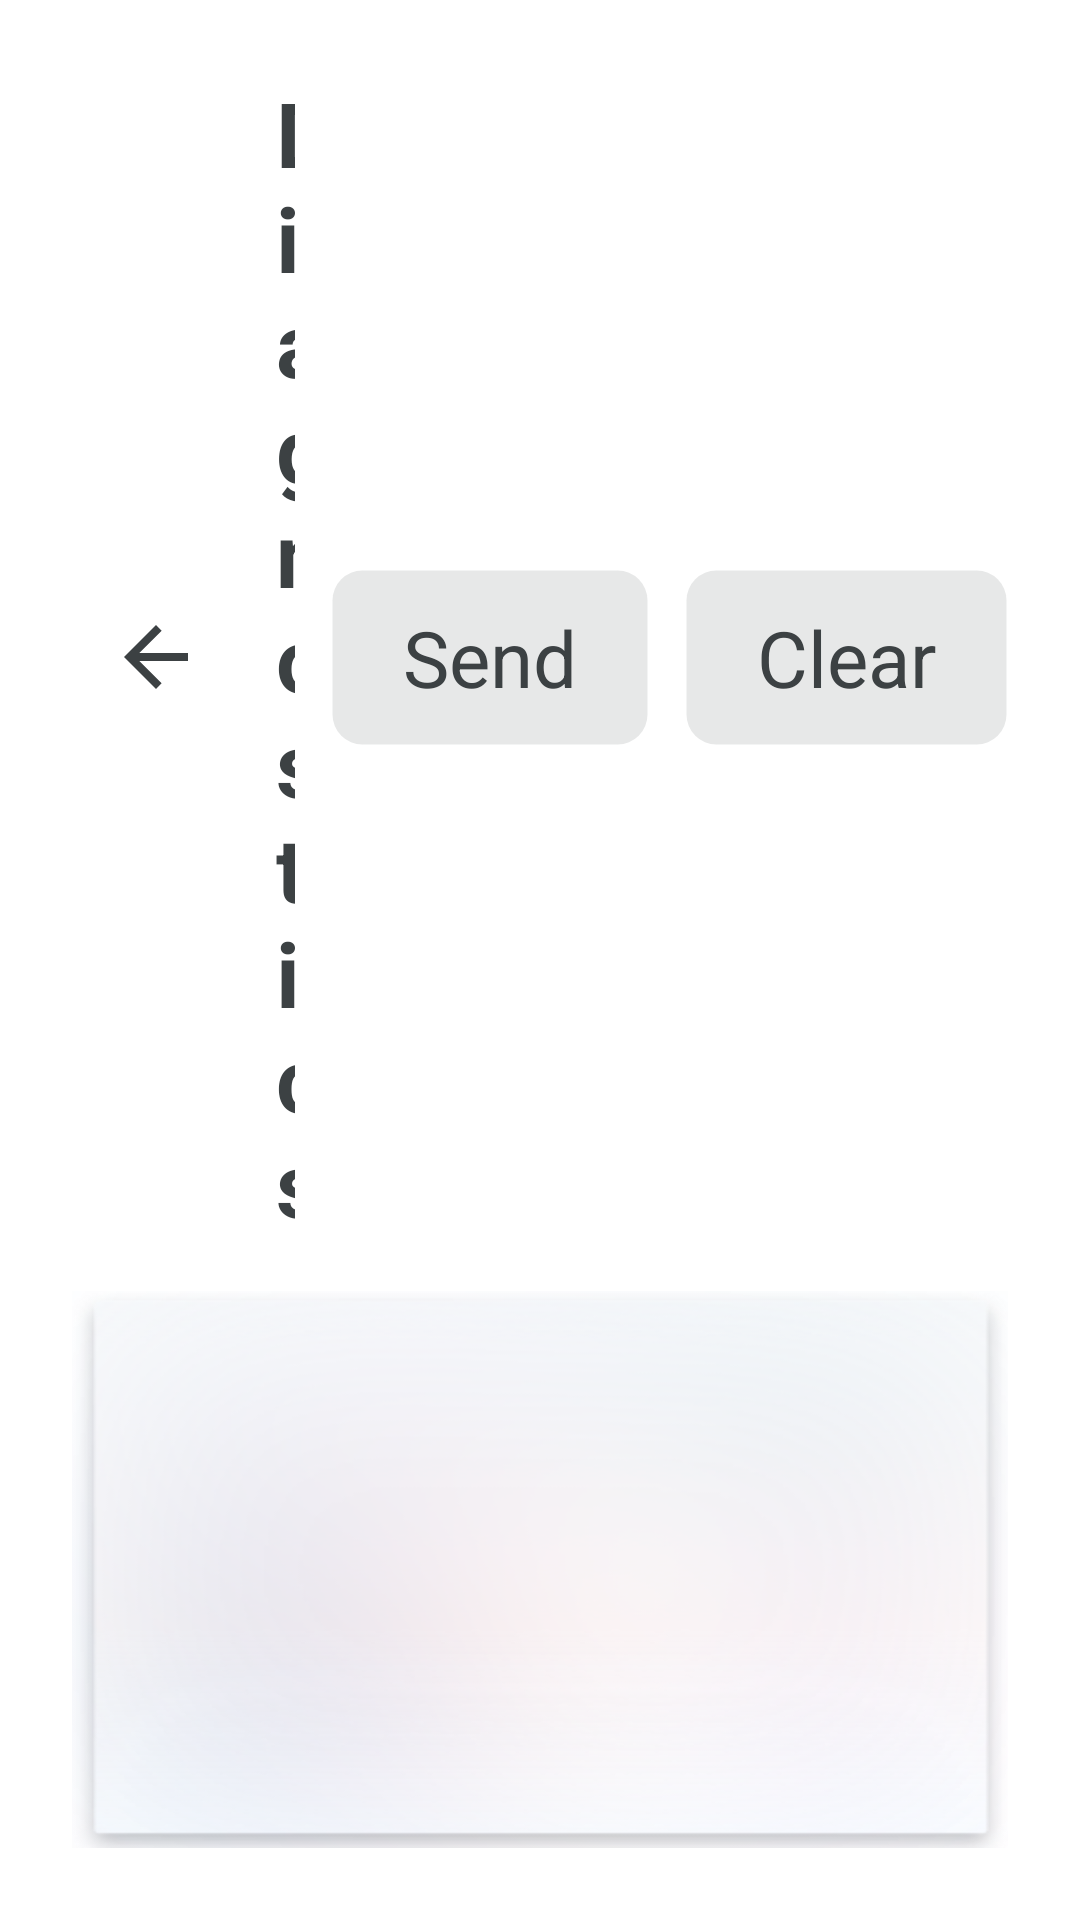

Icon bounding boxes for this 1080w x 1920h phone screenshot, format (x1, y1, x2, y2):
Back: (124, 625, 188, 689)
